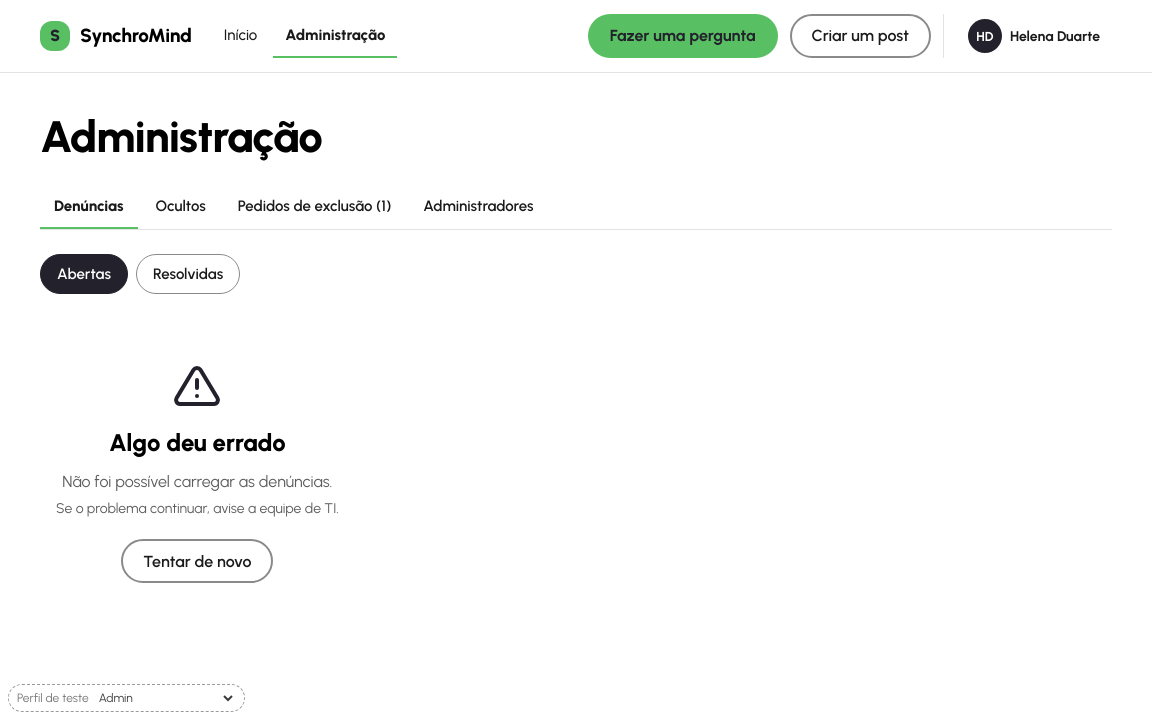
Test: aba Denúncias (HU-16) › erro de carregamento com "Tentar de novo"
Expected: the heading "Administração" is shown, [40,110,322,163]
Expected: the text "Não foi possível carregar as denúncias." is shown, [56,470,339,494]
Click the button "Tentar de novo".
click(197, 561)  # box [121,539,274,583]
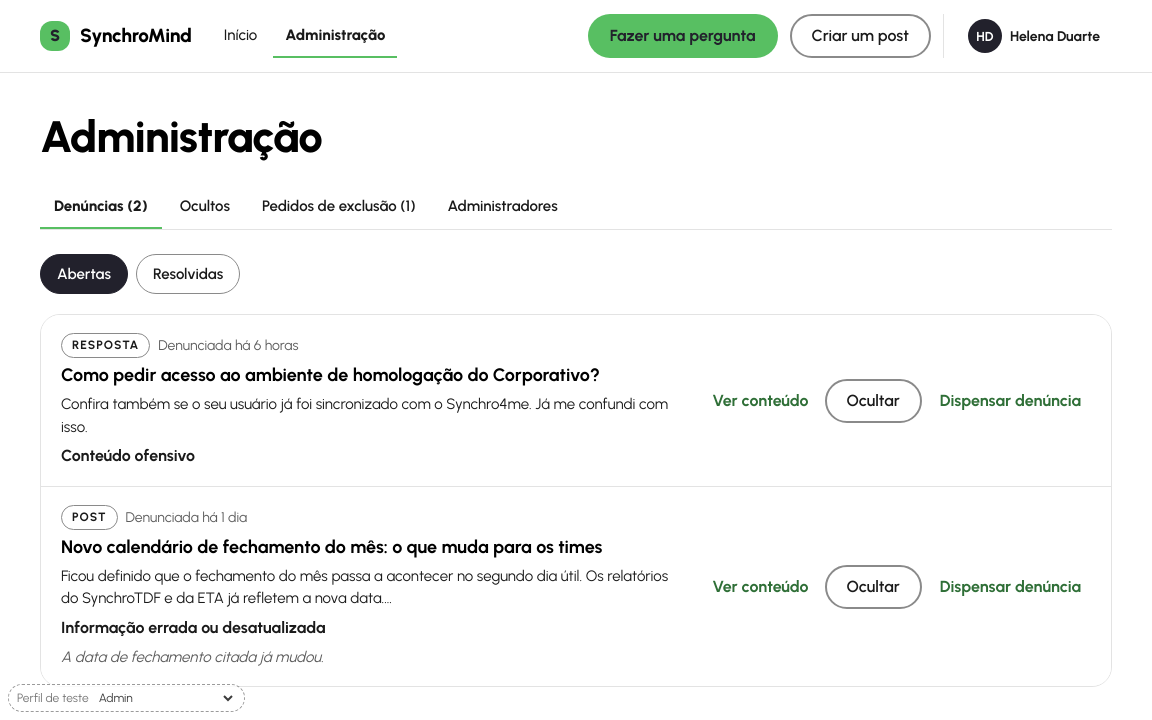
Expected: the list named "Denúncias" is shown, [40,314,1112,688]
